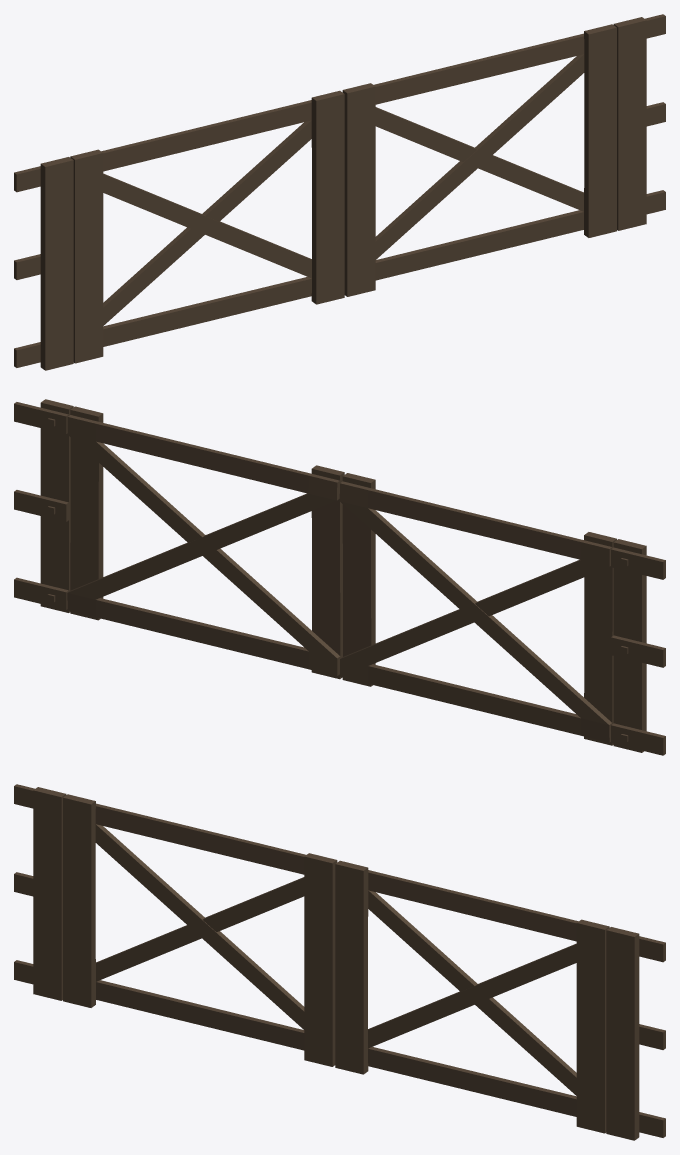
The model's file is wicket_01_A.gltf.
3 views of the same model, one above another, from view 1: azimuth 30°, elevation 25°; view 2: azimuth 150°, elevation 25°; view 3: azimuth 330°, elevation 25° (orthographic).
Parts seen in each view (by area): view 1: wicketDoor_01_B, wicketDoor_01_A, wicket_01_A; view 2: wicketDoor_01_B, wicketDoor_01_A, wicket_01_A; view 3: wicketDoor_01_A, wicketDoor_01_B, wicket_01_A.
Part boxes in pixels (x1,y1,x2,y2): wicketDoor_01_B: [342, 24, 616, 296]; wicketDoor_01_A: [70, 90, 344, 363]; wicket_01_A: [14, 14, 665, 370]; wicketDoor_01_B: [67, 406, 344, 679]; wicketDoor_01_A: [339, 473, 616, 745]; wicket_01_A: [14, 399, 665, 755]; wicketDoor_01_A: [63, 794, 337, 1066]; wicketDoor_01_B: [335, 860, 609, 1133]; wicket_01_A: [14, 784, 665, 1140].
Size of the model in its own units: 2.89 by 0.8661 by 0.066.
